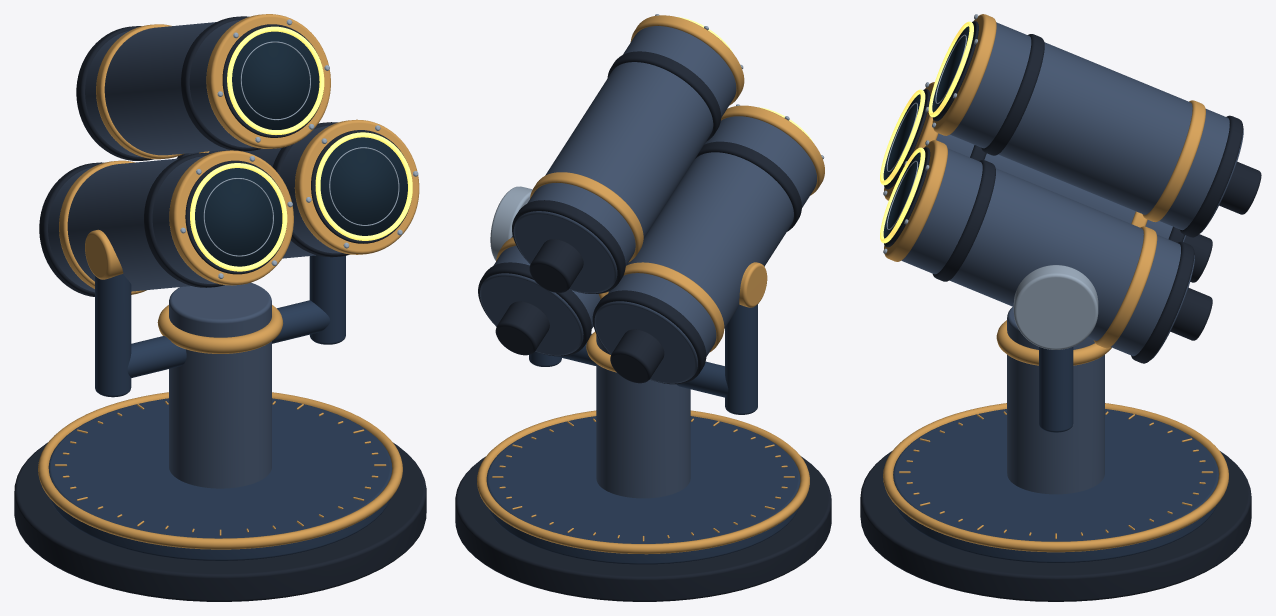
Rendered from crosscheck.glb.
3 renders of one model, left to right at view 1: azimuth 30°, elevation 25°; view 2: azimuth 150°, elevation 25°; view 3: azimuth 270°, elevation 25°, orthographic. The views are drawn at different scales.
Parts seen in each view (by area): view 1: CrossCheckMount, OpticsBody, Lens2, Lens1, Lens3; view 2: OpticsBody, CrossCheckMount; view 3: OpticsBody, CrossCheckMount, Lens3, Lens2, Lens1.
Part boxes in pixels (x1,y1,x2,y2): CrossCheckMount: [14, 229, 426, 601]; OpticsBody: [39, 14, 419, 296]; Lens2: [320, 137, 407, 235]; Lens1: [195, 168, 282, 266]; Lens3: [232, 31, 319, 129]; OpticsBody: [478, 14, 824, 384]; CrossCheckMount: [455, 186, 831, 601]; OpticsBody: [880, 14, 1261, 363]; CrossCheckMount: [860, 265, 1251, 601]; Lens3: [932, 26, 973, 112]; Lens2: [883, 152, 925, 238]; Lens1: [883, 94, 925, 180].
Bounding box in the file's own units: 2.96 × 4.17 × 3.03.
